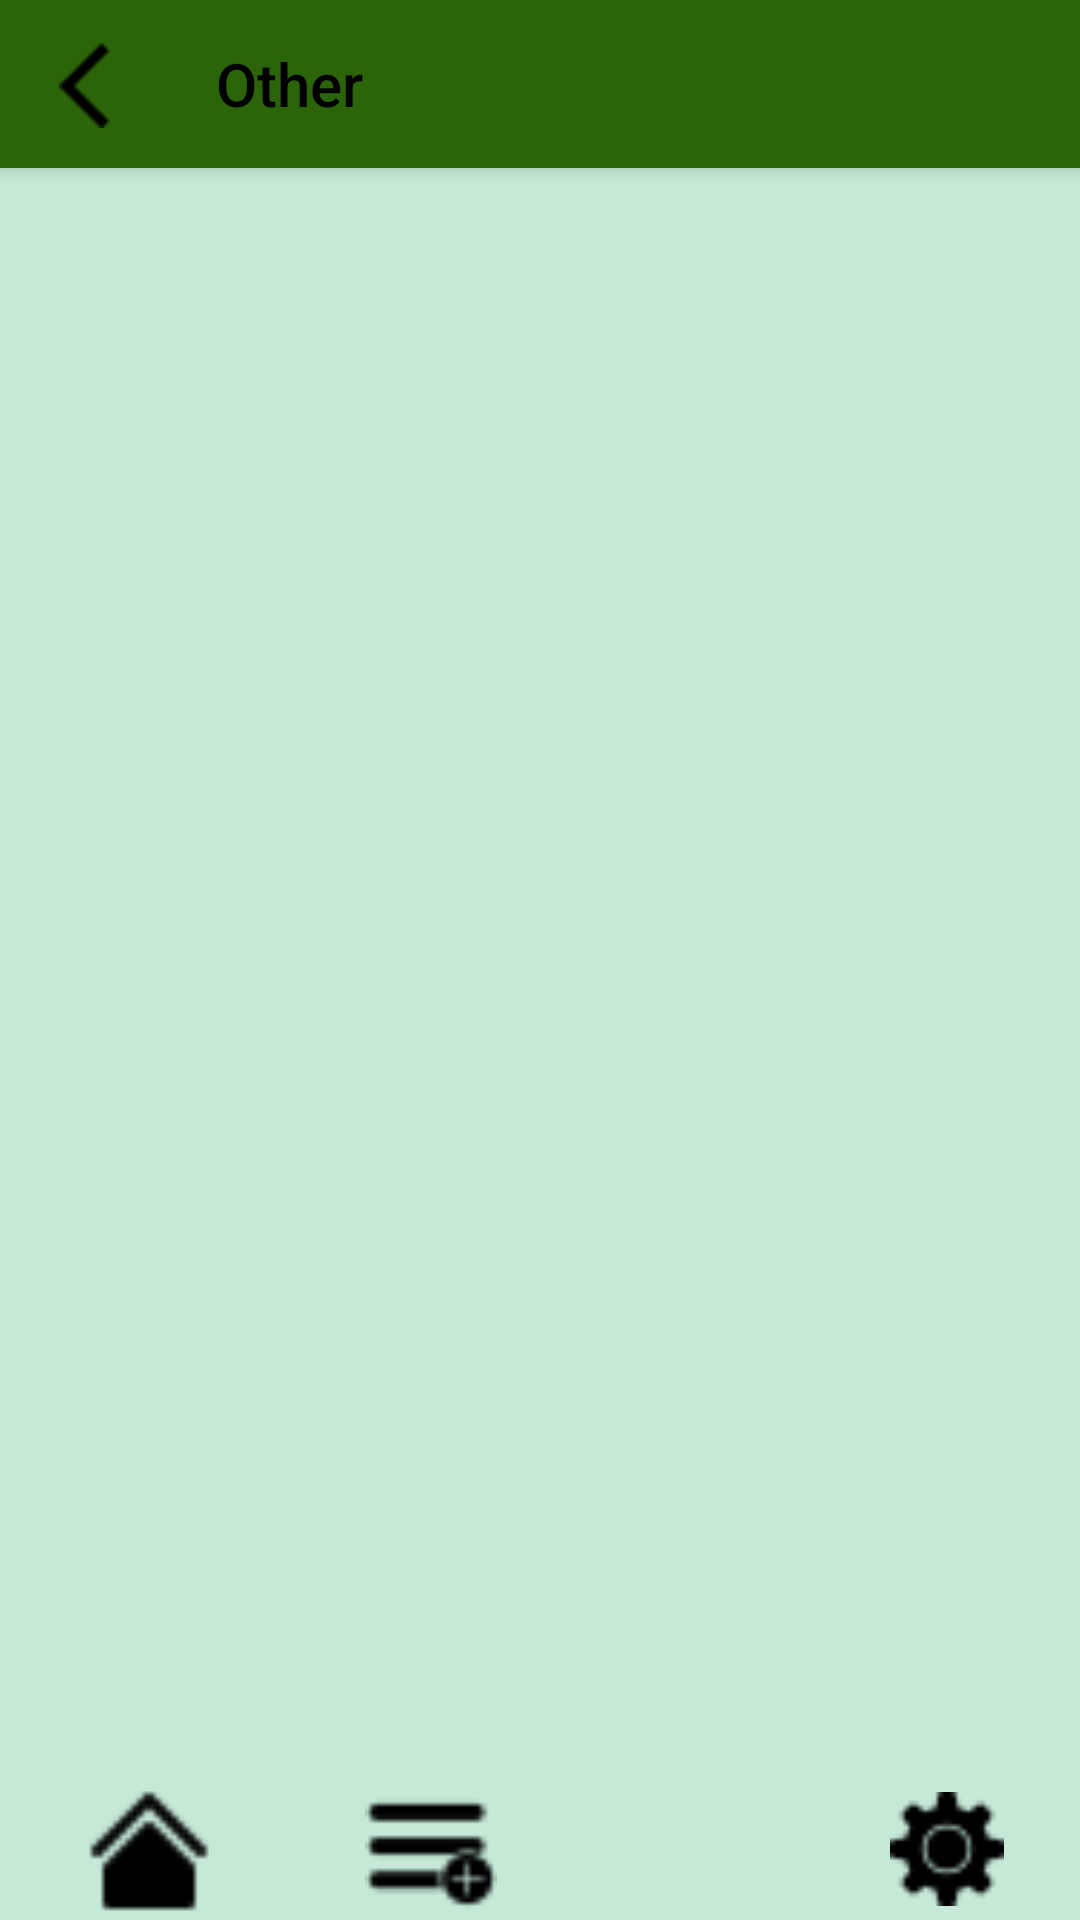

Icons on this 1080*1920 Android screen, each with its box as box=[x1, y1, x2, y2]:
add task: box=[365, 1802, 497, 1906]
home: box=[89, 1791, 209, 1911]
settings: box=[890, 1792, 1004, 1906]
